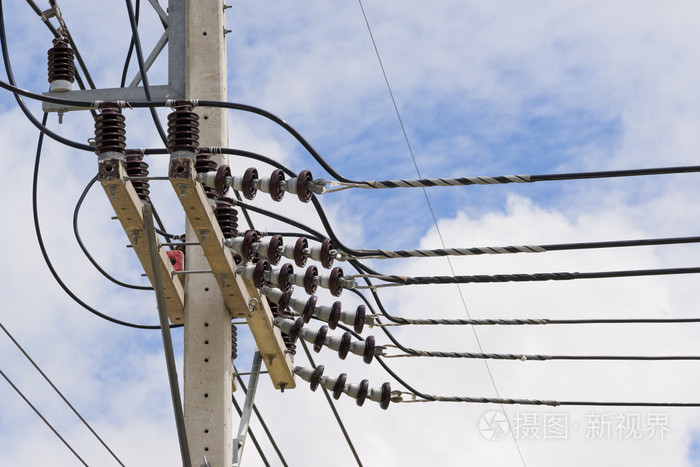insulator: (286, 317, 378, 364), (275, 289, 368, 335), (210, 164, 315, 204), (305, 365, 393, 412), (240, 230, 336, 269), (249, 259, 346, 297)
